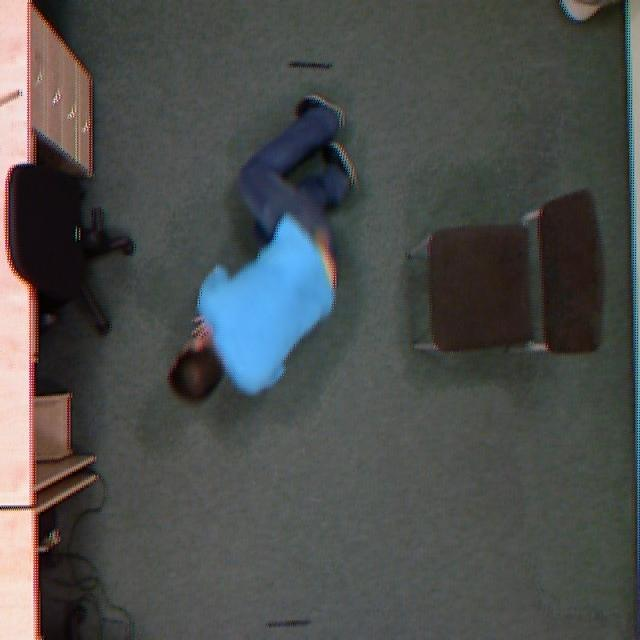fall: (144, 82, 376, 430)
